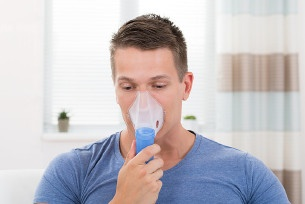Mask: (113, 69, 185, 143)
